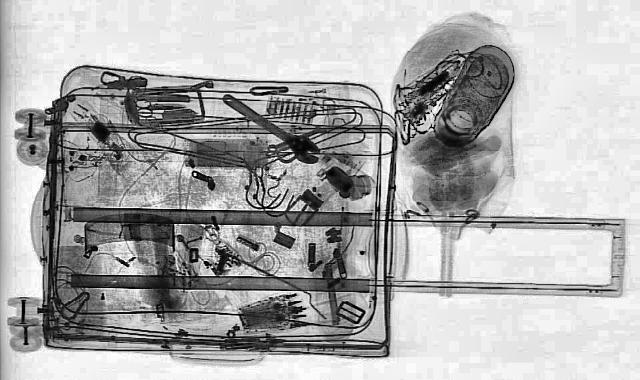Wrench: (210, 89, 334, 165)
